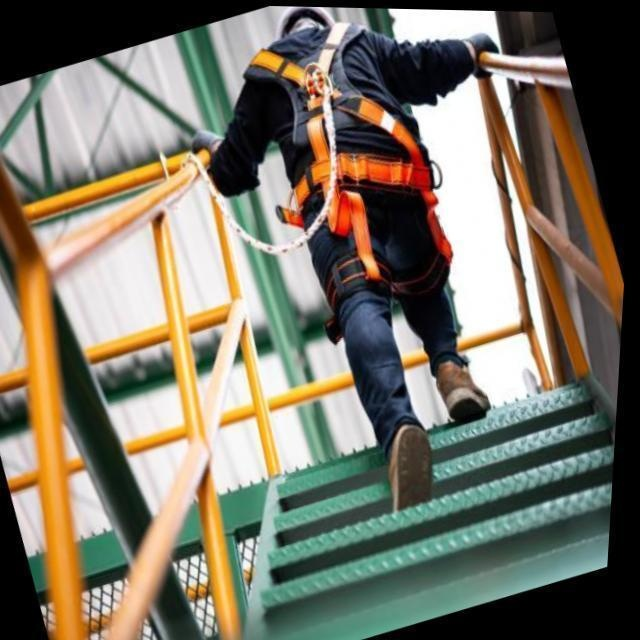Arnes_seguridad: (243, 27, 440, 237)
